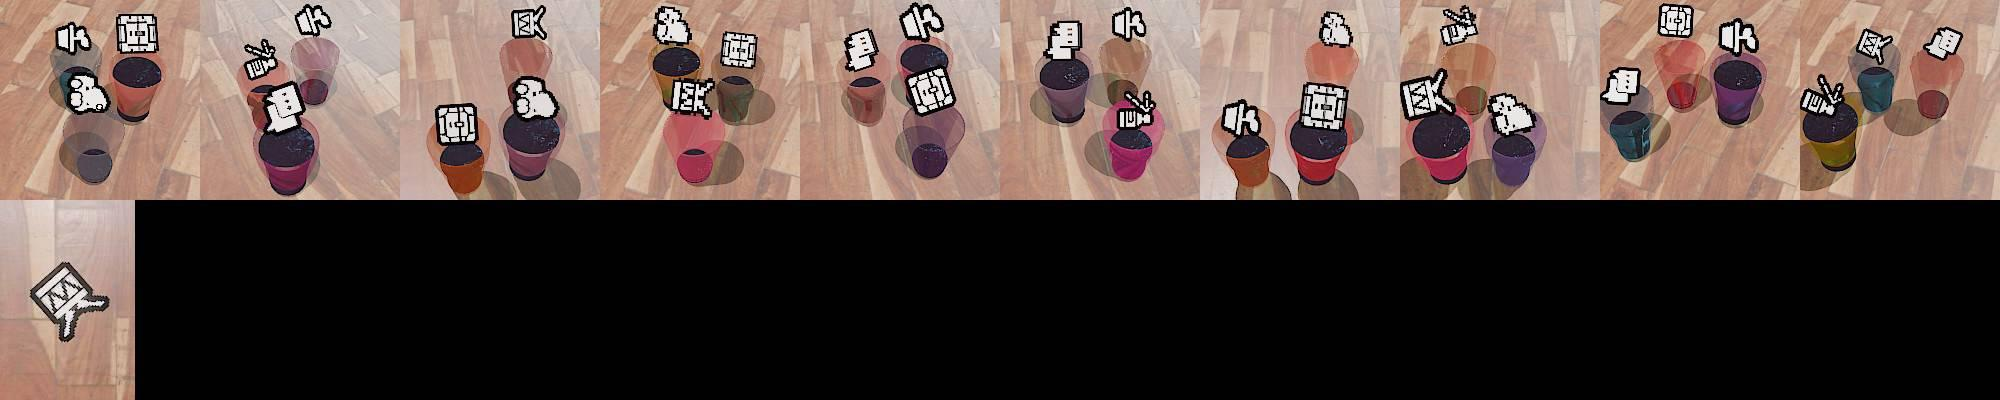icon: (29, 262, 114, 343), (904, 65, 957, 116), (1401, 70, 1452, 121), (1298, 80, 1349, 130), (1486, 90, 1537, 138), (260, 82, 306, 134), (510, 75, 560, 122), (65, 69, 111, 115), (1800, 73, 1844, 118), (670, 75, 717, 117), (435, 103, 480, 146), (116, 13, 159, 55), (899, 1, 944, 42), (1117, 87, 1157, 131), (1222, 97, 1263, 139), (1439, 5, 1480, 47), (1045, 18, 1083, 62), (1717, 18, 1760, 56), (653, 5, 693, 46), (1602, 66, 1644, 104), (719, 31, 759, 70), (844, 28, 879, 73), (1855, 28, 1895, 64), (1922, 25, 1962, 61), (55, 20, 94, 56), (1657, 3, 1694, 39), (1111, 6, 1148, 42), (295, 3, 332, 38), (511, 5, 546, 41), (1320, 10, 1352, 47), (242, 55, 278, 82)
